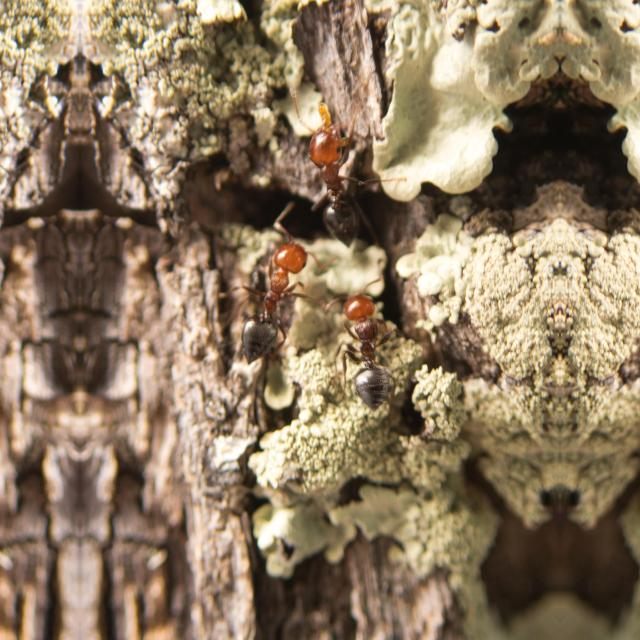Crematogaster: (310, 266, 416, 408), (294, 98, 378, 252), (226, 224, 308, 360)
